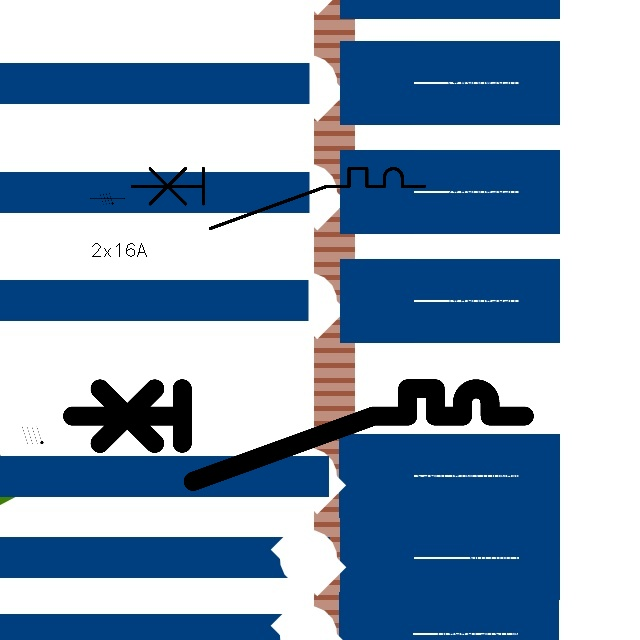interruptor_termomagnetico: (60, 377, 535, 493), (124, 161, 431, 236)
